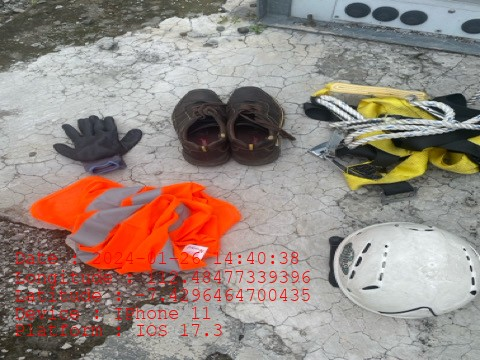HELM: (332, 220, 480, 319)
SARUNG_TANGAN: (53, 115, 142, 175)
SEPATU: (172, 85, 285, 167)
TAMBANG_SLING: (306, 93, 480, 160)
